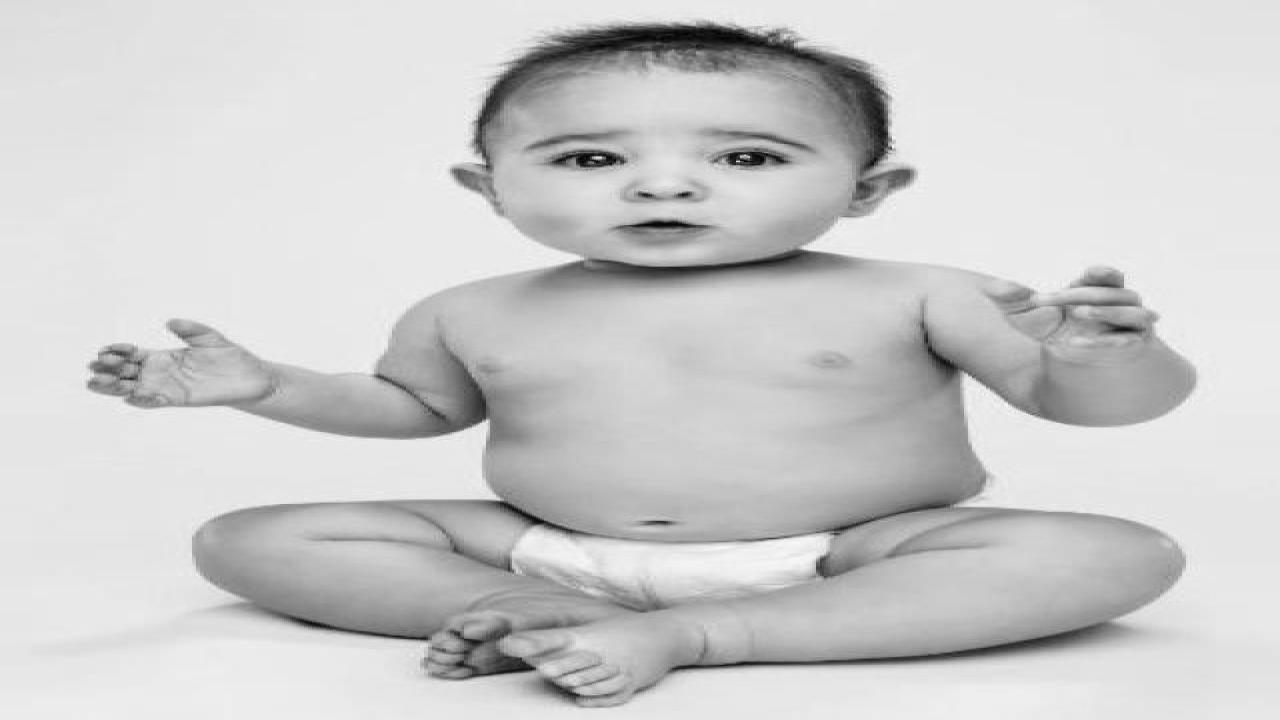hand: (86, 318, 262, 408), (982, 272, 1160, 352)
